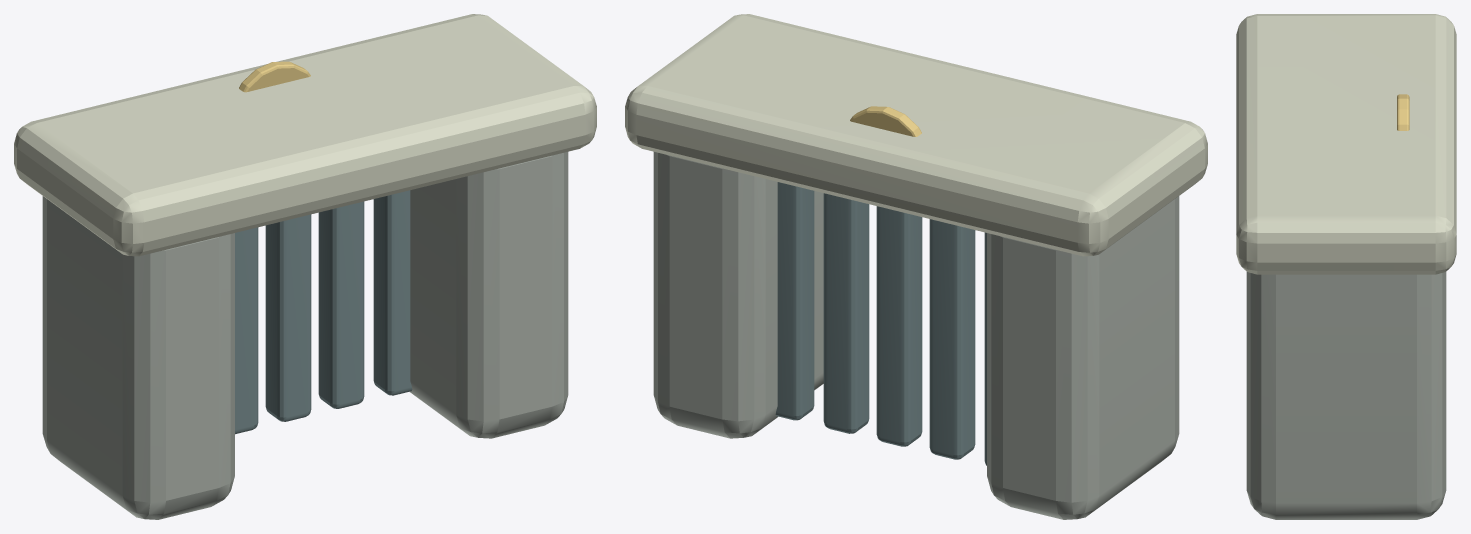
The model's file is floodgate.glb.
The picture shows the model from 3 angles, left to right: view 1: azimuth 30°, elevation 25°; view 2: azimuth 150°, elevation 25°; view 3: azimuth 270°, elevation 25°; orthographic projection. The views are drawn at different scales.
Parts seen in each view (by area): view 1: Surface_WorldStone, Surface_WorldIvory, Surface_WorldMetal, Surface_WorldBrass; view 2: Surface_WorldStone, Surface_WorldIvory, Surface_WorldMetal, Surface_WorldBrass; view 3: Surface_WorldIvory, Surface_WorldStone, Surface_WorldBrass.
Boxes of the visible parts, left/top/right/bottom form: Surface_WorldStone: left=42, top=152, right=568, bottom=519; Surface_WorldIvory: left=14, top=14, right=596, bottom=256; Surface_WorldMetal: left=235, top=190, right=412, bottom=434; Surface_WorldBrass: left=239, top=61, right=310, bottom=92; Surface_WorldStone: left=653, top=152, right=1179, bottom=519; Surface_WorldIvory: left=625, top=14, right=1207, bottom=256; Surface_WorldMetal: left=775, top=182, right=986, bottom=465; Surface_WorldBrass: left=850, top=106, right=921, bottom=136; Surface_WorldIvory: left=1236, top=14, right=1456, bottom=274; Surface_WorldStone: left=1246, top=272, right=1446, bottom=519; Surface_WorldBrass: left=1397, top=94, right=1409, bottom=130.
Size of the model in its own units: 2.45 by 1.74 by 1.05.
